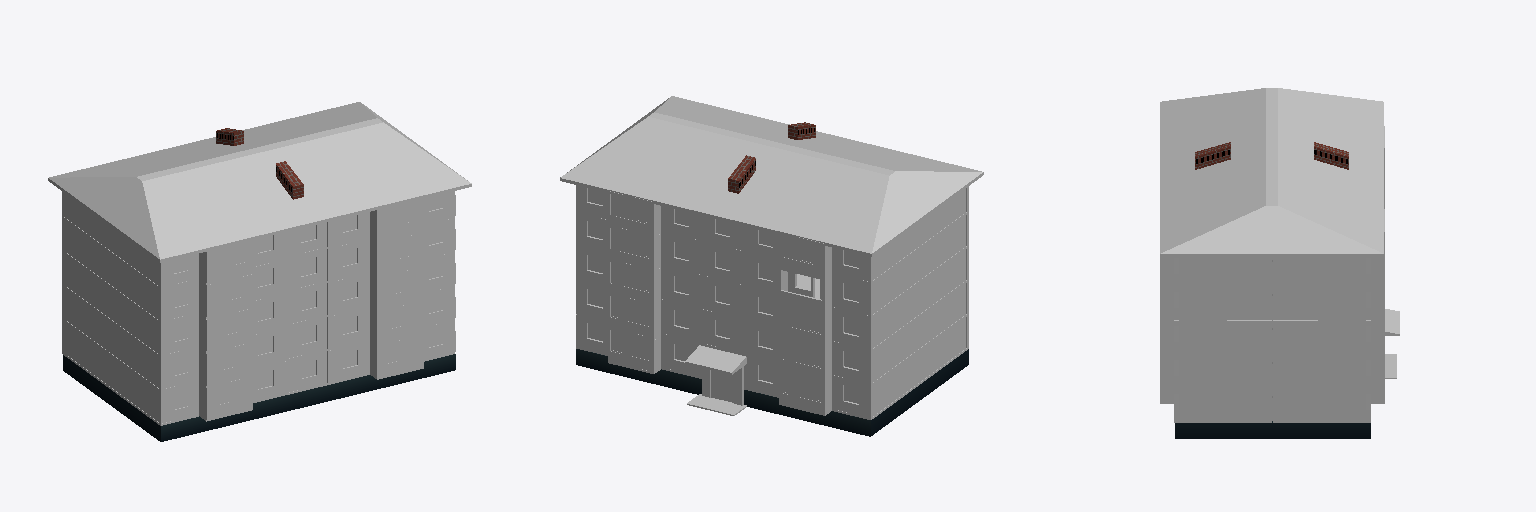
3 renders of one model, left to right at view 1: azimuth 30°, elevation 25°; view 2: azimuth 150°, elevation 25°; view 3: azimuth 270°, elevation 25°, orthographic.
Parts seen in each view (by area): view 1: крыша, Куб, Плоскость.470, Плоскость.516, Плоскость.562, Плоскость.608, Плоскость.601, Плоскость.509, Плоскость.555, Плоскость.463, Плоскость.654, Плоскость.647 (+28 smaller); view 2: крыша, Куб, Плоскость.624, Плоскость.539, Плоскость.585, Плоскость.631, Плоскость.532, Плоскость.578, Плоскость.486, Плоскость.493, Плоскость.677, Плоскость.670 (+28 smaller); view 3: крыша, Куб, Плоскость.566, Плоскость.589, Плоскость.612, Плоскость.635, Плоскость.474, Плоскость.497, Плоскость.520, Плоскость.543, Плоскость.611, Плоскость.588 (+10 smaller).
Boxes of the visible parts, <box> form: крыша: <box>48,102,471,262</box>; Куб: <box>63,354,455,441</box>; Плоскость.470: <box>327,335,423,382</box>; Плоскость.516: <box>327,301,423,348</box>; Плоскость.562: <box>327,267,423,314</box>; Плоскость.608: <box>327,233,423,280</box>; Плоскость.601: <box>199,259,288,316</box>; Плоскость.509: <box>199,327,288,385</box>; Плоскость.555: <box>199,293,288,350</box>; Плоскость.463: <box>199,361,288,419</box>; Плоскость.654: <box>327,199,423,246</box>; Плоскость.647: <box>199,232,288,282</box>; крыша: <box>560,96,983,256</box>; Куб: <box>576,349,968,436</box>; Плоскость.624: <box>743,253,831,311</box>; Плоскость.539: <box>608,295,703,343</box>; Плоскость.585: <box>608,261,703,308</box>; Плоскость.631: <box>608,227,703,274</box>; Плоскость.532: <box>743,321,831,379</box>; Плоскость.578: <box>743,287,831,345</box>; Плоскость.486: <box>743,355,831,413</box>; Плоскость.493: <box>608,329,702,376</box>; Плоскость.677: <box>608,193,703,240</box>; Плоскость.670: <box>743,226,831,277</box>; крыша: <box>1160,88,1383,256</box>; Куб: <box>1175,421,1370,438</box>; Плоскость.566: <box>1179,320,1226,352</box>; Плоскость.589: <box>1318,320,1365,352</box>; Плоскость.612: <box>1179,286,1226,318</box>; Плоскость.635: <box>1318,286,1365,318</box>; Плоскость.474: <box>1179,389,1226,420</box>; Плоскость.497: <box>1318,389,1365,420</box>; Плоскость.520: <box>1179,355,1226,386</box>; Плоскость.543: <box>1318,355,1365,386</box>; Плоскость.611: <box>1227,286,1272,318</box>; Плоскость.588: <box>1272,320,1317,352</box>.
Size of the model in its own units: 47.57 by 32.58 by 31.7.
14 materials, 2 textured.